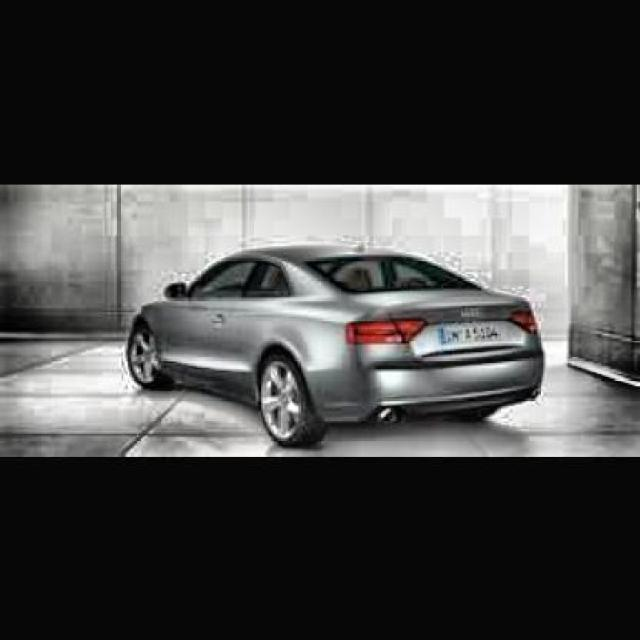black: (122, 247, 629, 422)
